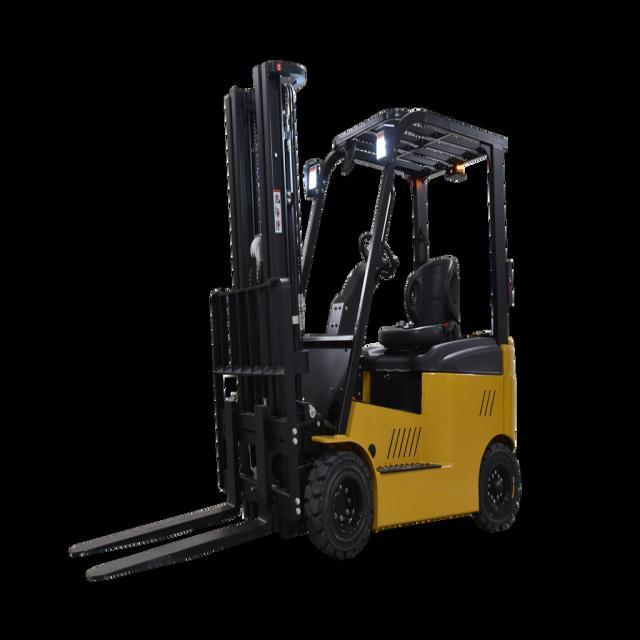forklift: (195, 44, 520, 576)
